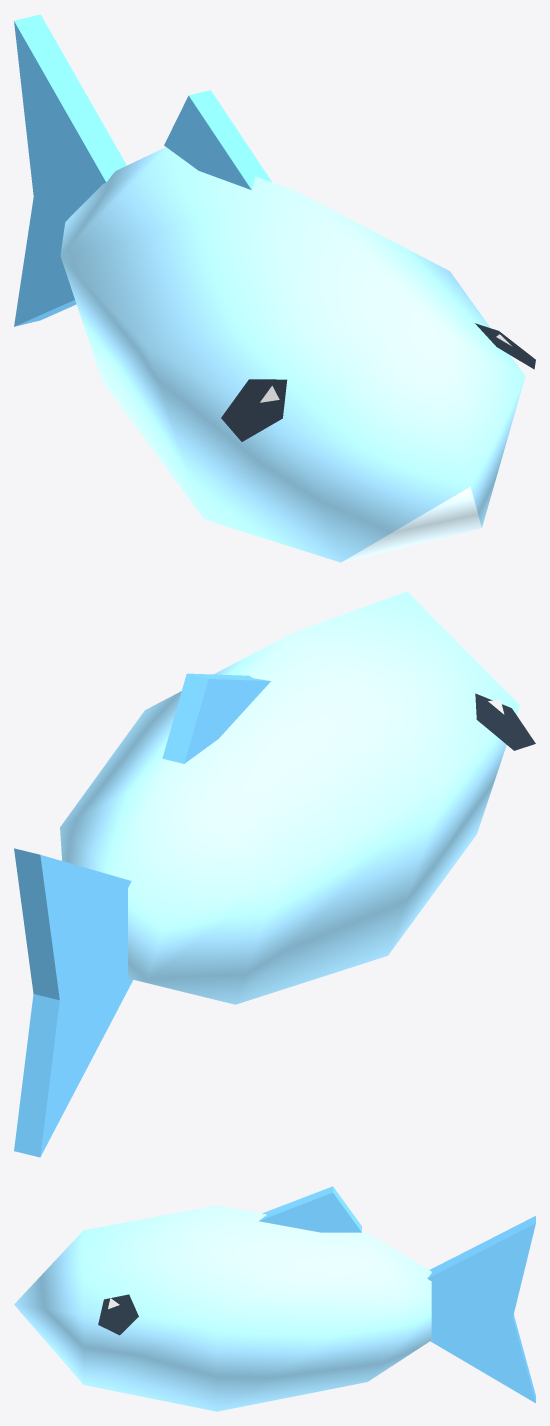
File: fish-b.glb
3 renders of one model, top to bottom at view 1: azimuth 30°, elevation 25°; view 2: azimuth 150°, elevation 25°; view 3: azimuth 270°, elevation 25°, orthographic. The views are drawn at different scales.
Parts seen in each view (by area): view 1: fish-b; view 2: fish-b; view 3: fish-b.
Boxes of the visible parts, <box> form: fish-b: <box>14,14,535,562</box>; fish-b: <box>14,591,535,1157</box>; fish-b: <box>14,1186,535,1411</box>.
Size of the model in its own units: 0.36 by 0.4 by 0.9.
